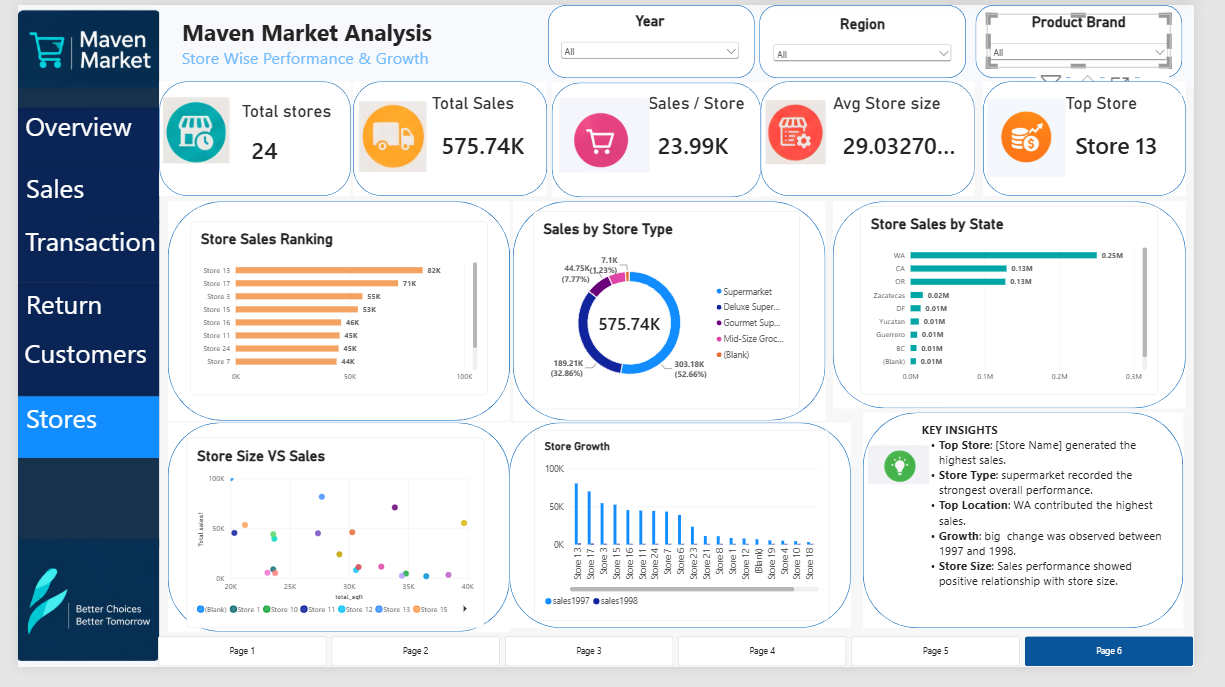

Layout of this report page (visuals, bound fields, positions):
{"tool":"powerbi","page":{"name":"Page 6","canvas":[1920,1080],"ordinal":5},"visuals":[{"type":"textbox","title":"Maven Market Analysis ","box":[215.7,0,1704.3,135.8],"z":0},{"type":"image","box":[0,0,230.5,156.4],"z":1},{"type":"textbox","box":[0,135.8,230.5,749.2],"z":2},{"type":"image","box":[0,870.1,230.5,209.9],"z":3},{"type":"textbox","box":[0,166.7,230.5,96.7],"z":4},{"type":"textbox","box":[0,263.5,230.5,92.6],"z":5},{"type":"textbox","box":[0,356.1,230.5,96.7],"z":6},{"type":"textbox","box":[0,452.8,230.5,86.4],"z":7},{"type":"textbox","box":[0,539.3,230.5,98.8],"z":8},{"type":"textbox","box":[0,638.1,230.5,100.9],"z":9},{"type":"shape","box":[864.5,0,337.6,119.4],"z":10},{"type":"slicer","title":"Year","fields":{"Values":["sales.transaction year"]},"box":[881,12.3,300.5,88.5],"z":11},{"type":"shape","box":[1210.3,0,337.6,119.4],"z":12},{"type":"slicer","title":"Region","fields":{"Values":["MavenMarket_Regions.sales_district"]},"box":[1228.8,16.5,300.5,88.5],"z":13},{"type":"shape","box":[1562.3,0,337.6,119.4],"z":14},{"type":"slicer","title":"Product Brand","fields":{"Values":["MavenMarket_Products.product_brand"]},"box":[1580.8,14.4,300.5,88.5],"z":15},{"type":"shape","box":[230.5,123.5,312.9,187.3],"z":16},{"type":"shape","box":[547.5,123.5,317,187.3],"z":17},{"type":"shape","box":[870.7,125.6,341.7,187.3],"z":18},{"type":"shape","box":[1574.6,123.5,331.4,187.3],"z":19},{"type":"cardVisual","title":"Total stores","fields":{"Data":["MavenMarket_Stores.Total Store"]},"box":[364.3,156.4,160.5,111.1],"z":20},{"type":"cardVisual","title":"Total Sales","fields":{"Data":["sales.Total sales1"]},"box":[675.1,144.1,172.9,119.4],"z":21},{"type":"cardVisual","title":"Sales / Store","fields":{"Data":["MavenMarket_Stores.sales per store"]},"box":[1029.2,144.1,172.9,119.4],"z":22},{"type":"cardVisual","title":"Top Store","fields":{"Data":["MavenMarket_Stores.top store"]},"box":[1710.5,144.1,189.4,119.4],"z":23},{"type":"shape","box":[244.9,321.1,558.3,358.3],"z":24},{"type":"clusteredBarChart","title":"Store Sales Ranking","fields":{"Category":["MavenMarket_Stores.store_name"],"Y":["sales.Total sales1"]},"box":[282,354,485.8,284],"z":25},{"type":"shape","box":[808.9,321.1,510,358],"z":26},{"type":"donutChart","title":"Sales by Store Type","fields":{"Category":["MavenMarket_Stores.store_type"],"Y":["sales.Total sales1"]},"box":[841.4,337.1,435.7,322.9],"z":27},{"type":"shape","box":[1329.7,321.1,576,338],"z":28},{"type":"clusteredBarChart","title":"Store Sales by State","fields":{"Category":["MavenMarket_Stores.store_state"],"Y":["sales.Total sales1"]},"box":[1375,329.3,485.4,308.3],"z":29},{"type":"shape","box":[244.9,681.3,557.8,341.7],"z":31},{"type":"scatterChart","title":"Store Size VS Sales ","fields":{"Series":["MavenMarket_Stores.store_name"],"X":["MavenMarket_Stores.total_sqft"],"Y":["sales.Total sales1"]},"box":[275.8,706,485.8,310.8],"z":32},{"type":"shape","box":[802.7,681.3,557.8,335.5],"z":33},{"type":"clusteredColumnChart","title":"Store Growth","fields":{"Category":["MavenMarket_Stores.store_name"],"Y":["MavenMarket_Transactions_1997 (2).sales1997","MavenMarket_Transactions_1998.sales1998"]},"box":[841.9,693.7,481.6,310.8],"z":34},{"type":"shape","box":[1379.1,664.8,522.8,352],"z":35},{"type":"shape","box":[1212.4,123.5,349.9,187.3],"z":36},{"type":"cardVisual","title":"Avg Store size","fields":{"Data":["MavenMarket_Stores.avg store size"]},"box":[1329.7,144.1,218.2,119.4],"z":37},{"type":"pageNavigator","box":[228.5,1031.2,1691.9,49.4],"z":38},{"type":"image","box":[547.5,156.4,129.7,115.3],"z":39},{"type":"image","box":[236.7,144.1,109.1,119.4],"z":40},{"type":"image","box":[883,144.1,148.2,135.8],"z":41},{"type":"image","box":[1220.6,140,98.8,133.8],"z":42},{"type":"image","box":[1580.8,152.3,129.7,127.6],"z":43},{"type":"textbox","box":[1475.7,680,405.7,312.9],"z":44},{"type":"image","box":[1387.1,705.7,100,88.6],"z":45}]}

Visuals, with their boxes on the page's 1920x1080 design canvas (x1, y1, x2, y2). These are canvas units, not pixel positions in the 1225x687 screenshot, which may show the page scaled, cropped or inside an application window:
"Maven Market Analysis " textbox: locate(216, 0, 1920, 136)
image: locate(0, 0, 230, 156)
textbox: locate(0, 136, 230, 885)
image: locate(0, 870, 230, 1080)
textbox: locate(0, 167, 230, 263)
textbox: locate(0, 264, 230, 356)
textbox: locate(0, 356, 230, 453)
textbox: locate(0, 453, 230, 539)
textbox: locate(0, 539, 230, 638)
textbox: locate(0, 638, 230, 739)
shape: locate(864, 0, 1202, 119)
"Year" slicer: locate(881, 12, 1182, 101)
shape: locate(1210, 0, 1548, 119)
"Region" slicer: locate(1229, 16, 1529, 105)
shape: locate(1562, 0, 1900, 119)
"Product Brand" slicer: locate(1581, 14, 1881, 103)
shape: locate(230, 124, 543, 311)
shape: locate(548, 124, 864, 311)
shape: locate(871, 126, 1212, 313)
shape: locate(1575, 124, 1906, 311)
"Total stores" cardVisual: locate(364, 156, 525, 268)
"Total Sales" cardVisual: locate(675, 144, 848, 264)
"Sales / Store" cardVisual: locate(1029, 144, 1202, 264)
"Top Store" cardVisual: locate(1710, 144, 1900, 264)
shape: locate(245, 321, 803, 679)
"Store Sales Ranking" clusteredBarChart: locate(282, 354, 768, 638)
shape: locate(809, 321, 1319, 679)
"Sales by Store Type" donutChart: locate(841, 337, 1277, 660)
shape: locate(1330, 321, 1906, 659)
"Store Sales by State" clusteredBarChart: locate(1375, 329, 1860, 638)
shape: locate(245, 681, 803, 1023)
"Store Size VS Sales " scatterChart: locate(276, 706, 762, 1017)
shape: locate(803, 681, 1360, 1017)
"Store Growth" clusteredColumnChart: locate(842, 694, 1324, 1004)
shape: locate(1379, 665, 1902, 1017)
shape: locate(1212, 124, 1562, 311)
"Avg Store size" cardVisual: locate(1330, 144, 1548, 264)
pageNavigator: locate(228, 1031, 1920, 1081)
image: locate(548, 156, 677, 272)
image: locate(237, 144, 346, 264)
image: locate(883, 144, 1031, 280)
image: locate(1221, 140, 1319, 274)
image: locate(1581, 152, 1710, 280)
textbox: locate(1476, 680, 1881, 993)
image: locate(1387, 706, 1487, 794)
